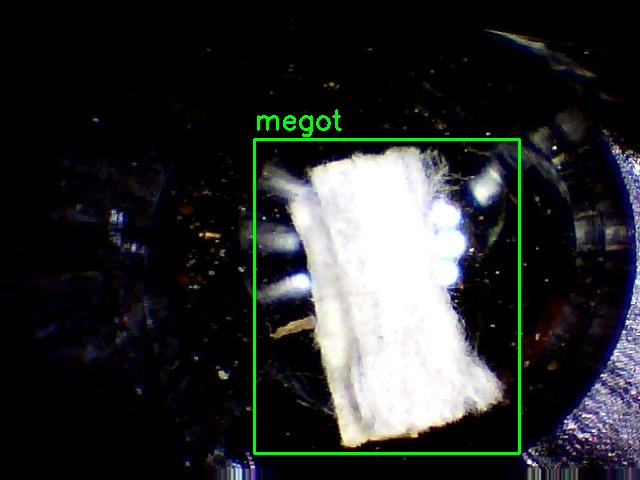megot: (254, 139, 519, 453)
